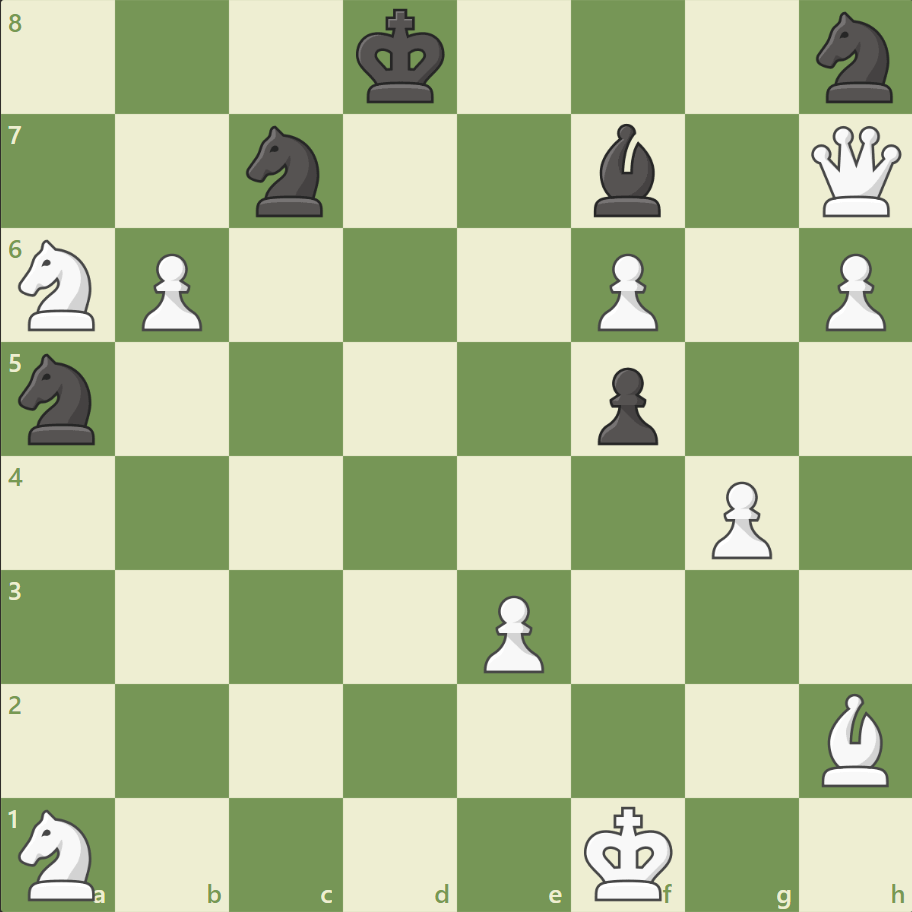B: (812, 687, 896, 790)
K: (579, 798, 679, 906)
N: (11, 234, 108, 337), (11, 802, 108, 904)
P: (133, 246, 208, 337), (701, 473, 776, 564), (474, 586, 549, 677), (588, 246, 662, 337), (815, 246, 889, 337)
Q: (805, 122, 904, 222)
b: (585, 120, 669, 222)
k: (351, 4, 451, 112)
n: (806, 7, 903, 110), (238, 121, 335, 223), (11, 348, 108, 450)
p: (588, 359, 662, 450)
